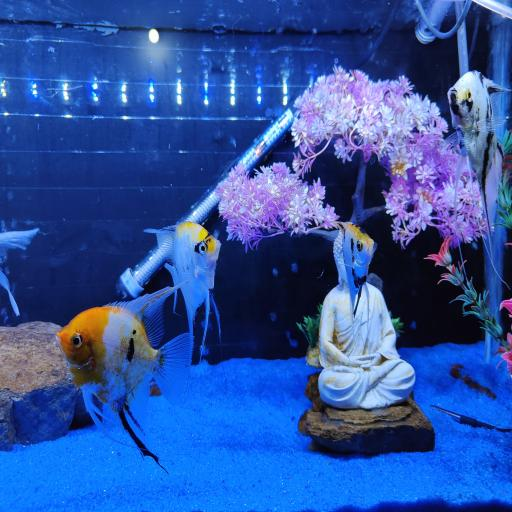Fish: (56, 287, 192, 465), (448, 71, 508, 237), (145, 223, 221, 351), (334, 223, 376, 315), (0, 228, 39, 262)
